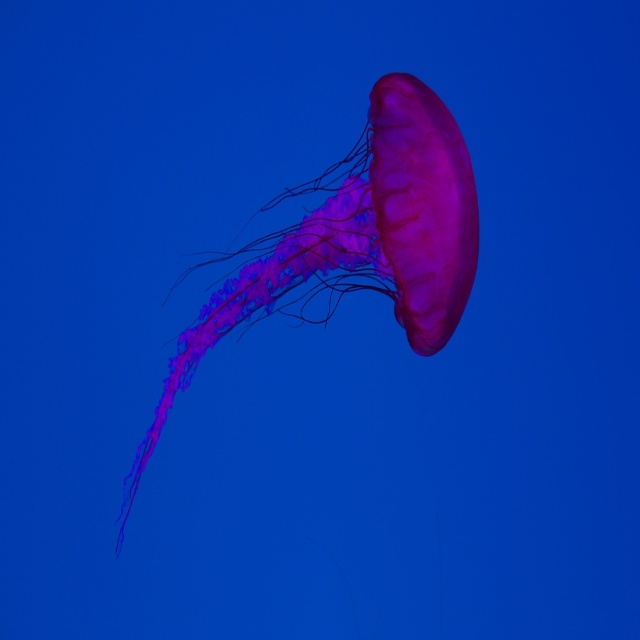Jellyfish: (114, 69, 479, 558)
